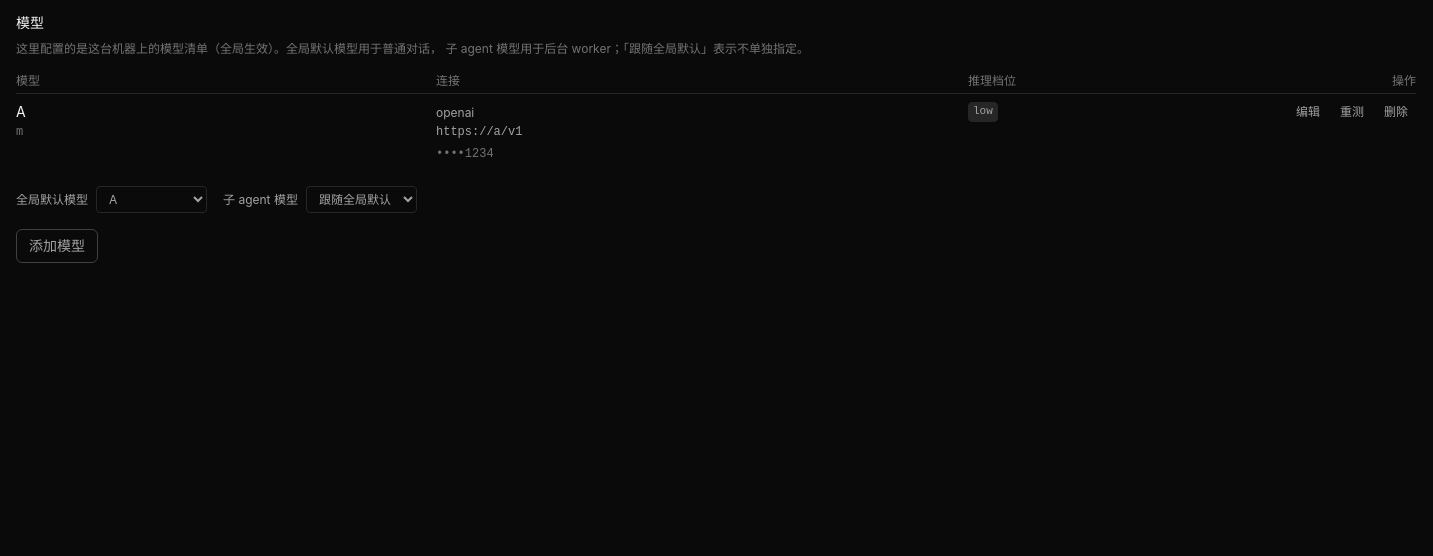
Scenario: SettingsModelsTab effort capabilities › keeps a stored tier visible even when it is no longer supported
The image size is (1433, 556).
Expected: the text "low" is shown, [968,102,998,122]
Step 1. Click the button "编辑" → coordinates (1308, 112), box [1288,102,1328,122]
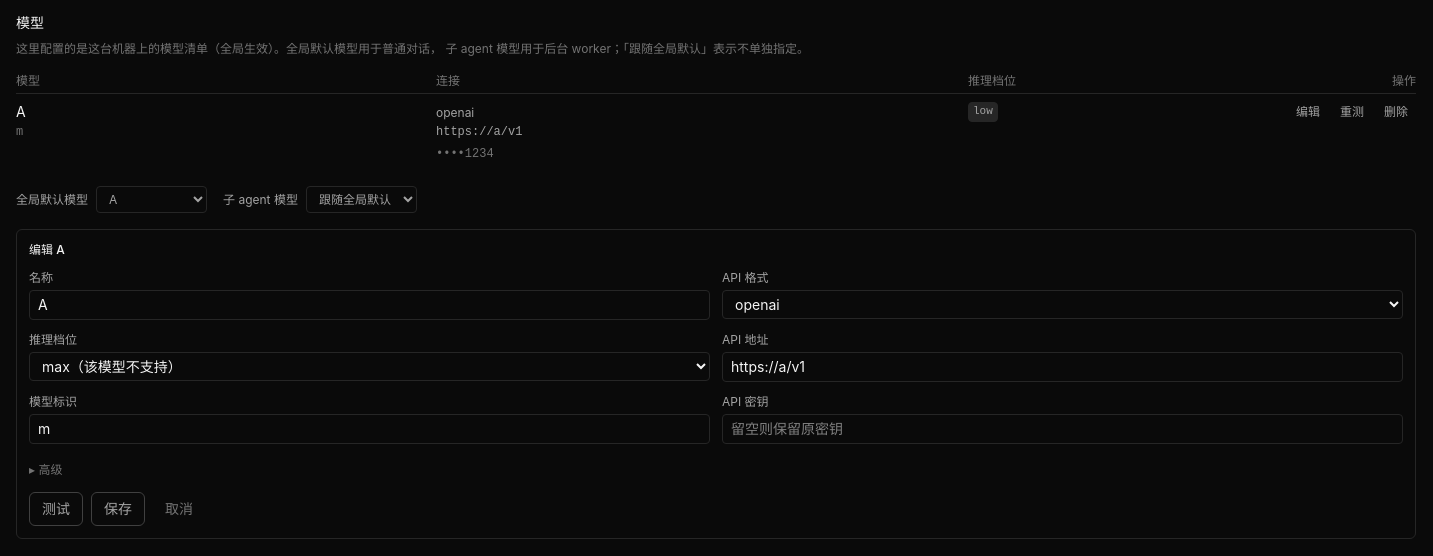
Expected: the dropdown labelled "推理档位" shows "max（该模型不支持）", [29,352,710,381]
